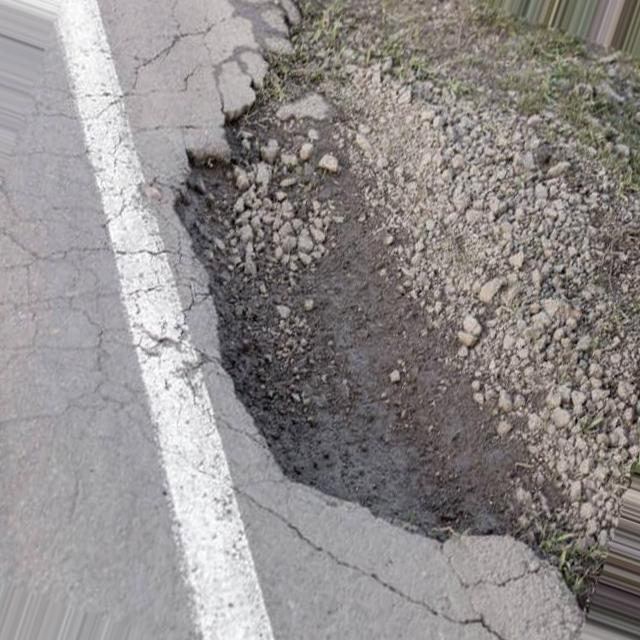Pinggir: (157, 10, 588, 584)
